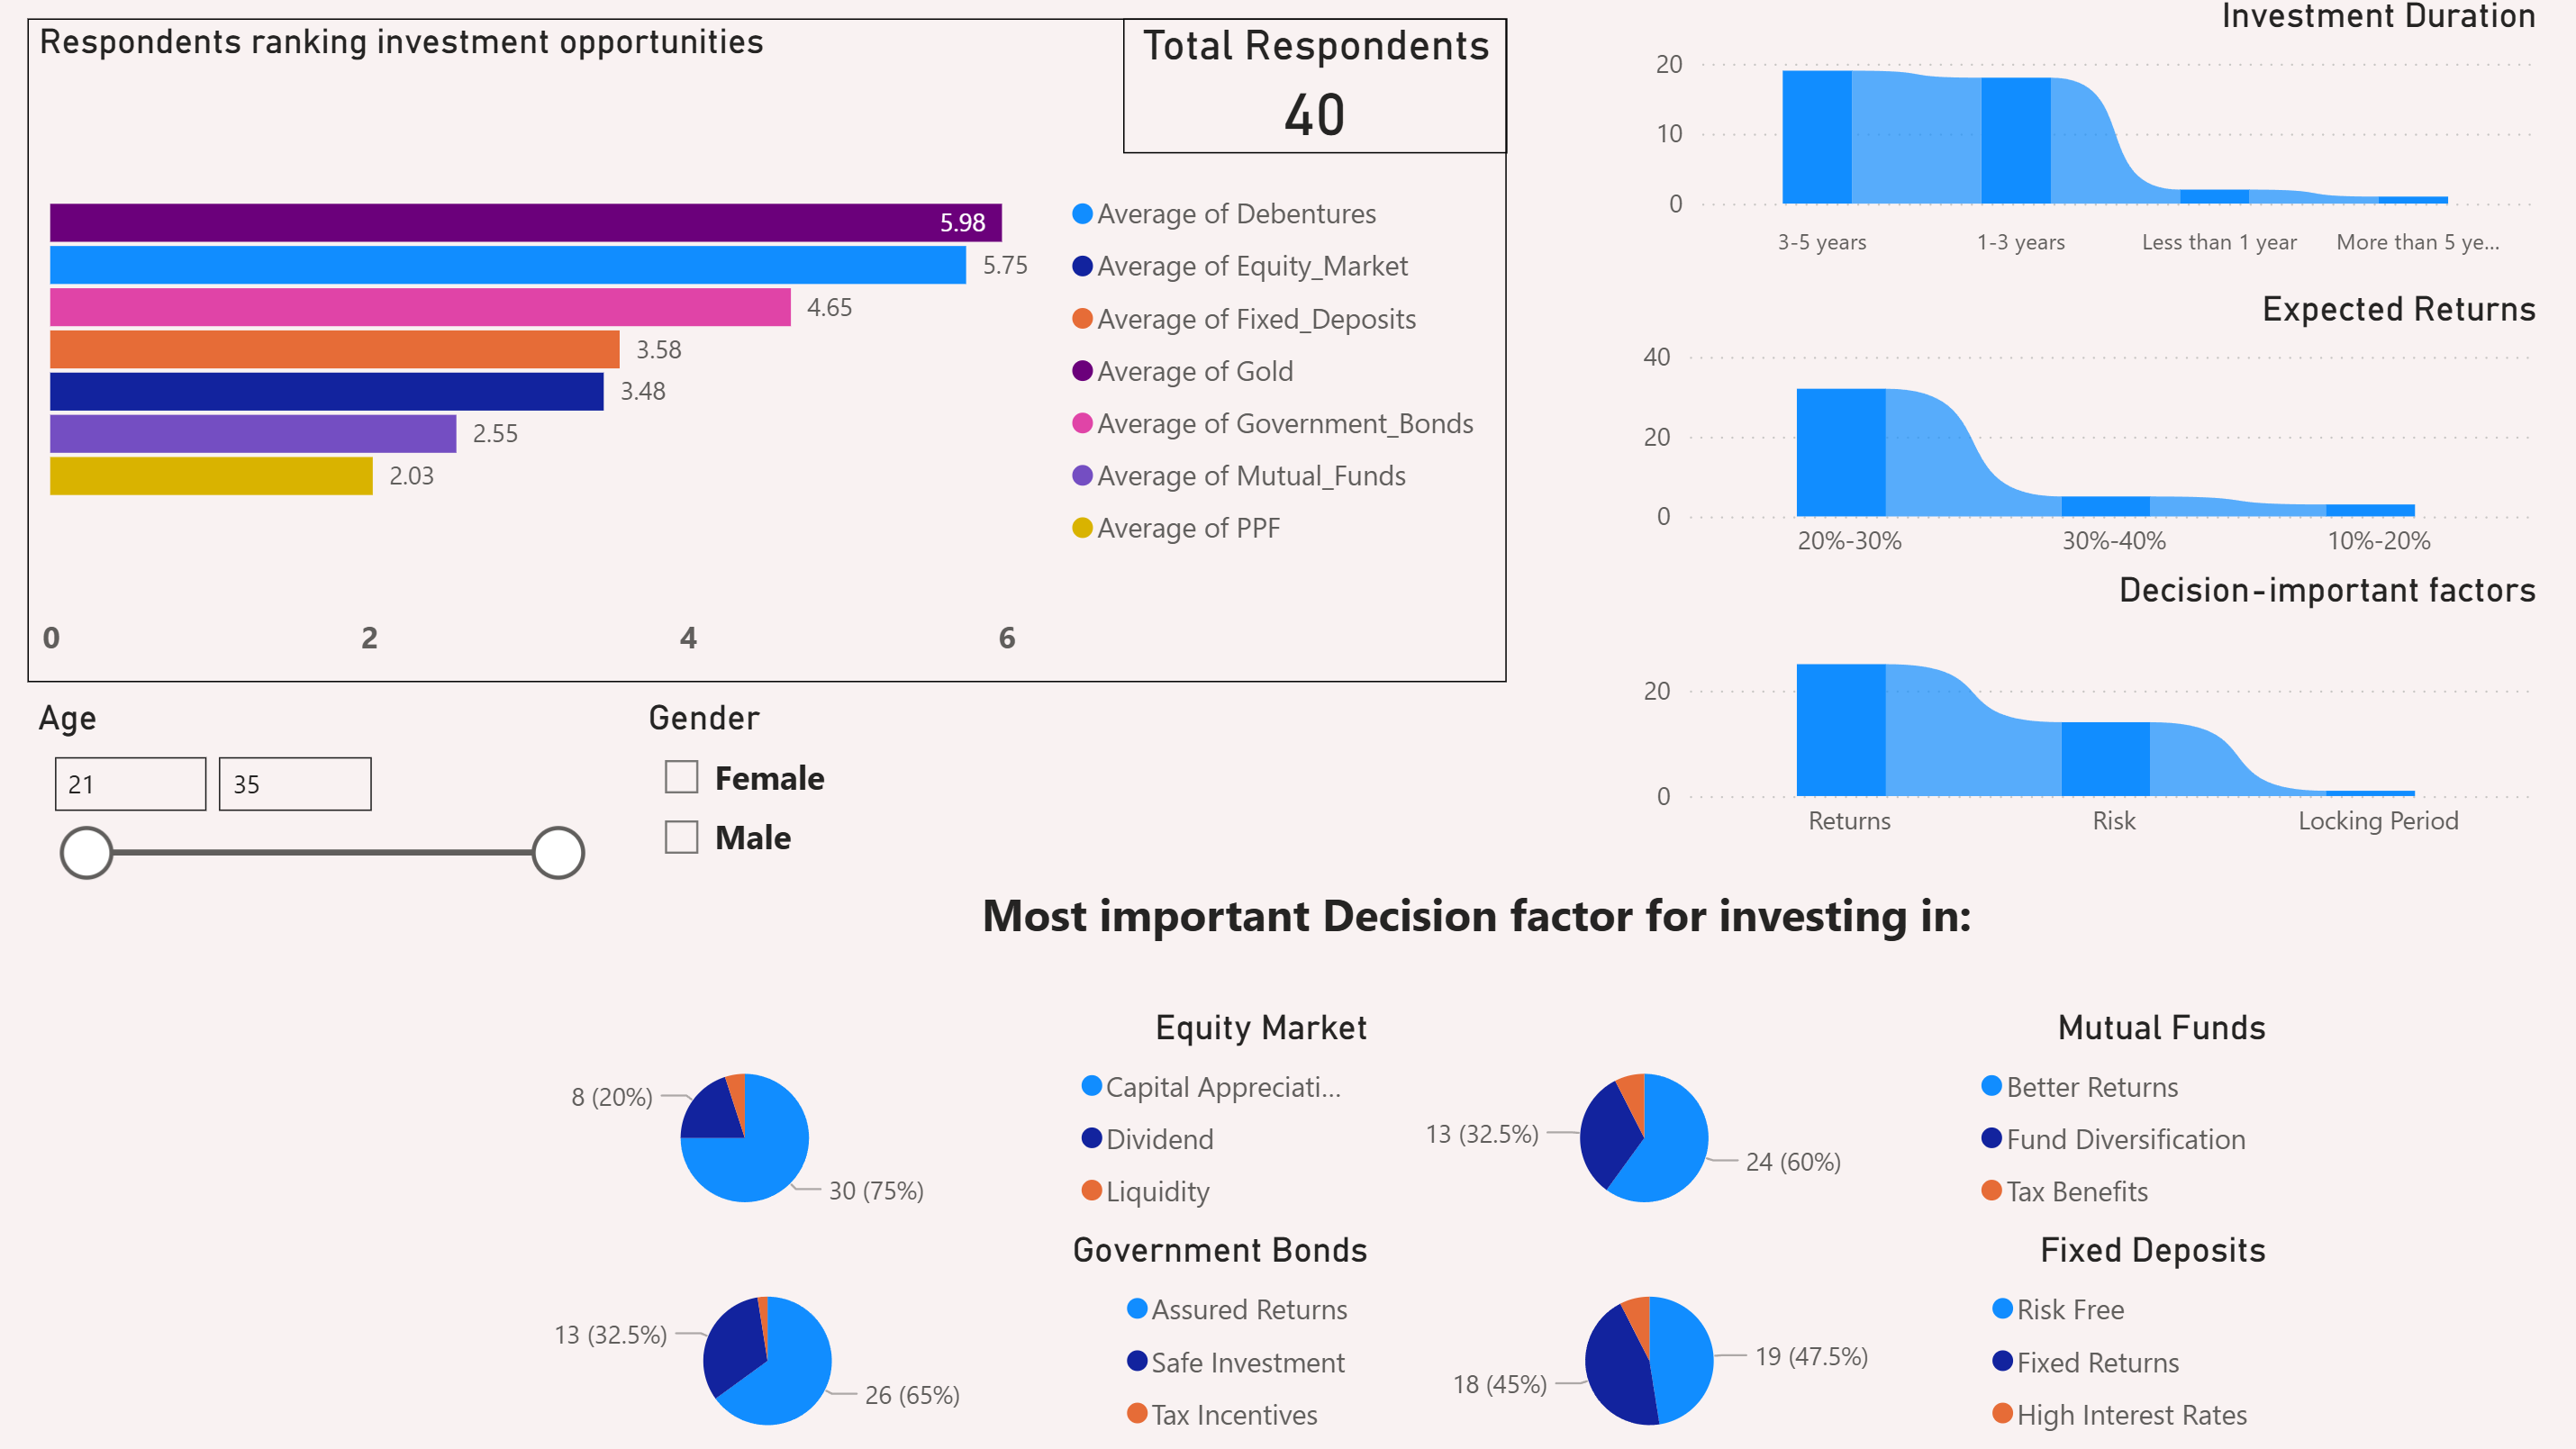

What the dashboard file says about the page in this screenshot:
{"tool":"powerbi","page":{"name":"Page 1","canvas":[1280,720],"ordinal":0},"visuals":[{"type":"slicer","fields":{"Values":["finance_dataset finance_data.age"]},"box":[16.3,340.1,277.9,97.4],"z":0},{"type":"slicer","fields":{"Values":["finance_dataset finance_data.gender"]},"box":[309.3,334.8,146.5,91.6],"z":1000},{"type":"clusteredBarChart","title":"Average respondents ranking","fields":{"Y":["Avg(finance_dataset finance_data.Debentures)","Avg(finance_dataset finance_data.Equity_Market)","Avg(finance_dataset finance_data.Fixed_Deposits)","Avg(finance_dataset finance_data.Gold)","Avg(finance_dataset finance_data.Government_Bonds)","Avg(finance_dataset finance_data.Mutual_Funds)","Avg(finance_dataset finance_data.PPF)"]},"box":[0,7.2,716.1,315.9],"z":2000},{"type":"pieChart","fields":{"Category":["finance_dataset finance_data.Duration"],"Y":["CountNonNull(finance_dataset finance_data.Duration)"]},"box":[725.9,7.2,456.5,134.7],"z":3000},{"type":"pieChart","fields":{"Category":["finance_dataset finance_data.Expect"],"Y":["CountNonNull(finance_dataset finance_data.Expect)"]},"box":[944.3,359.7,327,109.9],"z":4000},{"type":"pieChart","fields":{"Category":["finance_dataset finance_data.Purpose"],"Y":["CountNonNull(finance_dataset finance_data.Purpose)"]},"box":[689.9,245.2,456.5,114.4],"z":5000},{"type":"pieChart","fields":{"Category":["finance_dataset finance_data.Reason_Bonds"],"Y":["CountNonNull(finance_dataset finance_data.Reason_Bonds)"]},"box":[0,577.9,482.6,107.9],"z":6000},{"type":"pieChart","fields":{"Category":["finance_dataset finance_data.Objective"],"Y":["CountNonNull(finance_dataset finance_data.Objective)"]},"box":[775.6,141.9,504.2,108.6],"z":6001},{"type":"pieChart","fields":{"Category":["finance_dataset finance_data.Reason_Equity"],"Y":["CountNonNull(finance_dataset finance_data.Reason_Equity)"]},"box":[0,449.9,506.8,107.9],"z":6002},{"type":"pieChart","fields":{"Category":["finance_dataset finance_data.Reason_FD"],"Y":["CountNonNull(finance_dataset finance_data.Reason_FD)"]},"box":[506.8,449.9,482.6,107.9],"z":6003},{"type":"pieChart","fields":{"Category":["finance_dataset finance_data.Reason_Mutual"],"Y":["CountNonNull(finance_dataset finance_data.Reason_Mutual)"]},"box":[506.8,577.9,482.6,107.9],"z":6004}]}

Visuals, with their boxes in screenshot pixels (x1, y1, x2, y2), scaled from the page's 1280x720 canvas onto the 2576x1449 screenshot:
slicer - finance_dataset finance_data.age: {"left": 32, "top": 684, "right": 592, "bottom": 881}
slicer - finance_dataset finance_data.gender: {"left": 622, "top": 674, "right": 917, "bottom": 858}
"Average respondents ranking" clusteredBarChart: {"left": 0, "top": 14, "right": 1441, "bottom": 650}
pieChart - finance_dataset finance_data.Duration x CountNonNull(finance_dataset finance_data.Duration): {"left": 1461, "top": 14, "right": 2380, "bottom": 285}
pieChart - finance_dataset finance_data.Expect x CountNonNull(finance_dataset finance_data.Expect): {"left": 1900, "top": 724, "right": 2559, "bottom": 945}
pieChart - finance_dataset finance_data.Purpose x CountNonNull(finance_dataset finance_data.Purpose): {"left": 1388, "top": 494, "right": 2307, "bottom": 724}
pieChart - finance_dataset finance_data.Reason_Bonds x CountNonNull(finance_dataset finance_data.Reason_Bonds): {"left": 0, "top": 1163, "right": 971, "bottom": 1381}
pieChart - finance_dataset finance_data.Objective x CountNonNull(finance_dataset finance_data.Objective): {"left": 1561, "top": 285, "right": 2575, "bottom": 504}
pieChart - finance_dataset finance_data.Reason_Equity x CountNonNull(finance_dataset finance_data.Reason_Equity): {"left": 0, "top": 905, "right": 1020, "bottom": 1123}
pieChart - finance_dataset finance_data.Reason_FD x CountNonNull(finance_dataset finance_data.Reason_FD): {"left": 1020, "top": 905, "right": 1991, "bottom": 1123}
pieChart - finance_dataset finance_data.Reason_Mutual x CountNonNull(finance_dataset finance_data.Reason_Mutual): {"left": 1020, "top": 1163, "right": 1991, "bottom": 1381}
